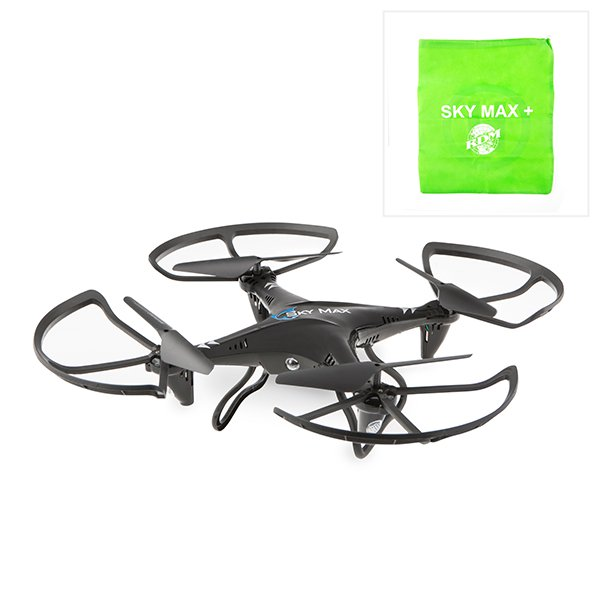drone: (27, 220, 569, 462)
